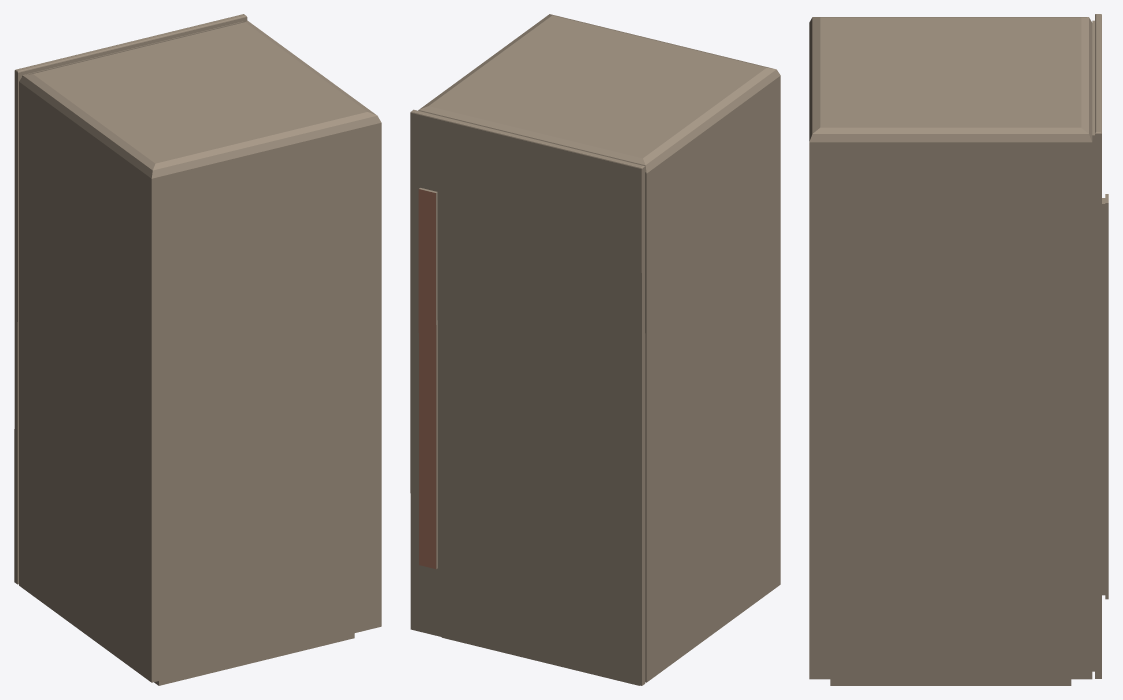
File: Nevera.fbx
3 views of the same model, side by side, from view 1: azimuth 30°, elevation 25°; view 2: azimuth 150°, elevation 25°; view 3: azimuth 270°, elevation 25° (orthographic). The views are drawn at different scales.
Visible parts, largest first — view 1: Nevera; view 2: Nevera; view 3: Nevera.
Boxes of the visible parts, x1=… form: Nevera: x1=14, y1=14, x2=381, y2=685; Nevera: x1=410, y1=14, x2=780, y2=685; Nevera: x1=809, y1=14, x2=1108, y2=685.
Bounding box in the file's own units: 631 × 1383 × 667.
